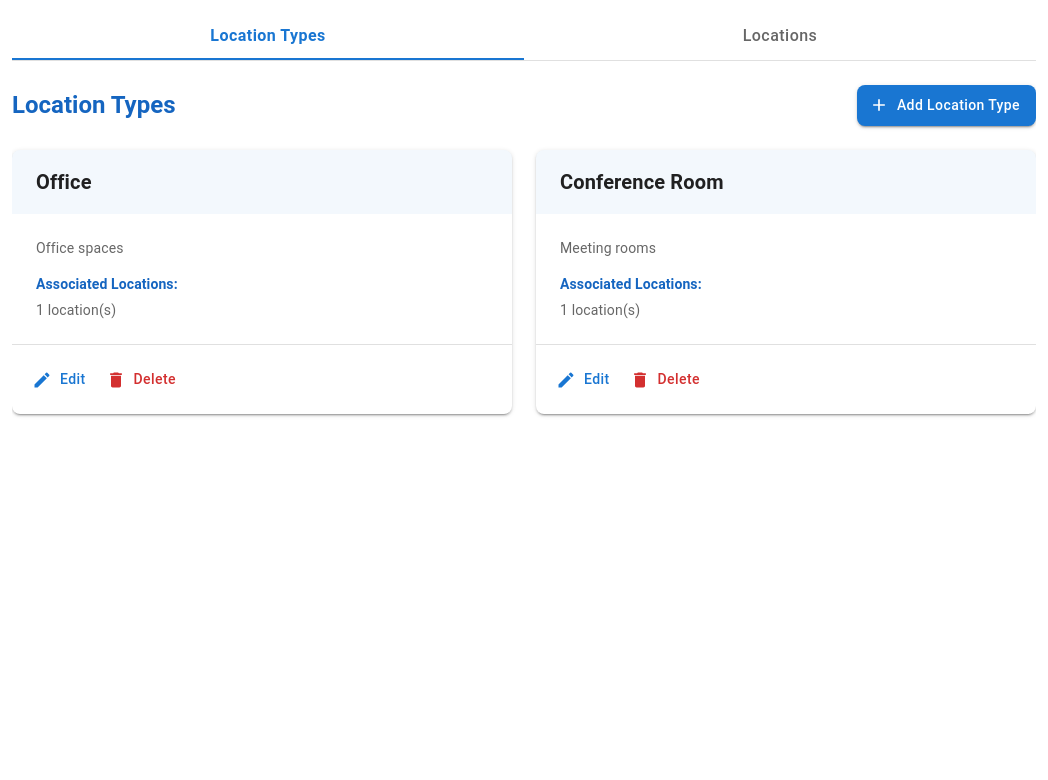
Test: LocationManagement › handles location type deletion
# Find and click delete button
Step 1. Click the button "Delete" below "Office spaces" → click(143, 380), box [102,361,184,398]
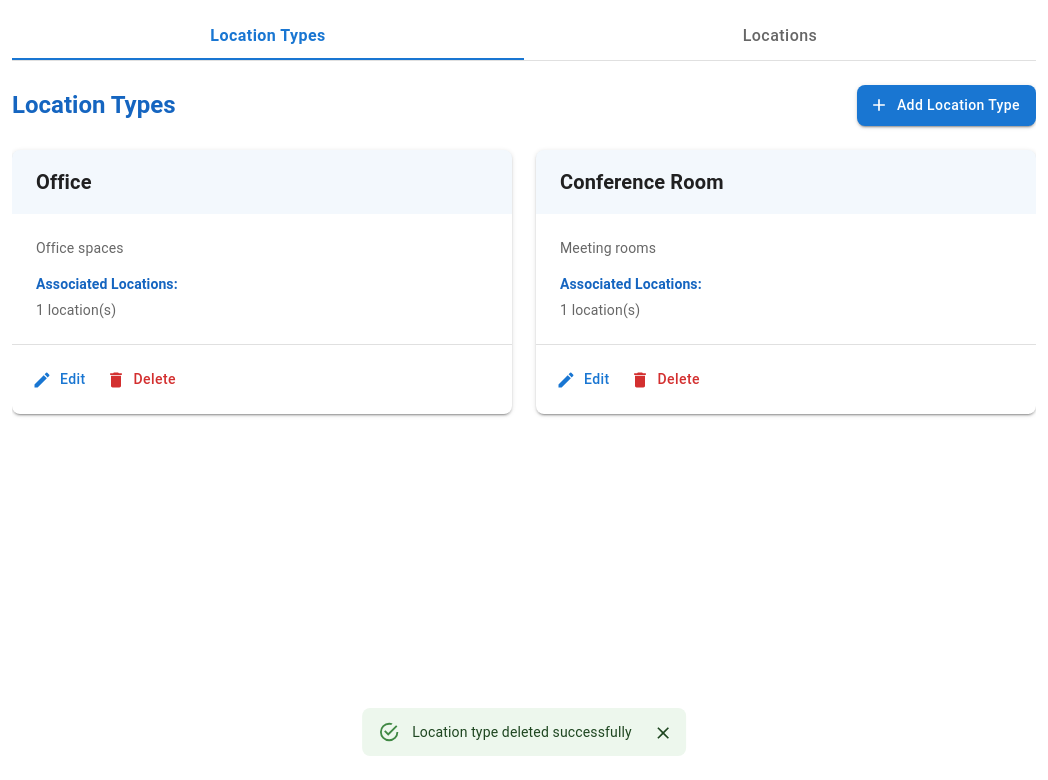
Expected: the text "Location type deleted successfully" is shown, [412,724,632,740]
